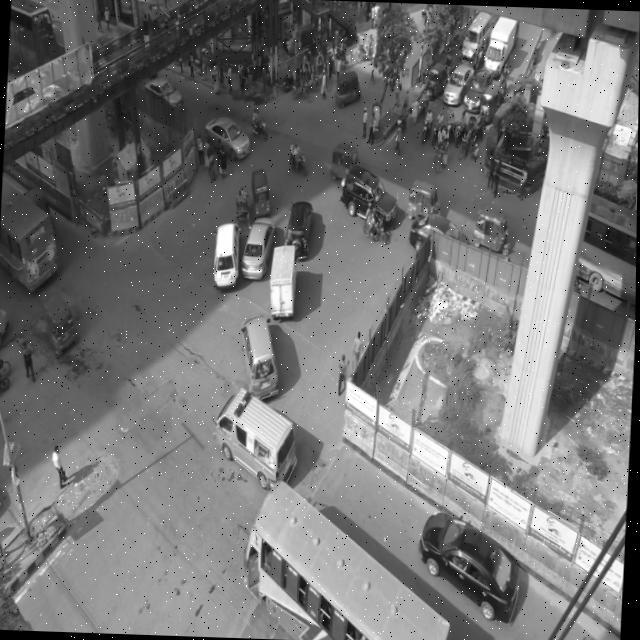cng: (33, 288, 82, 360), (474, 202, 514, 254), (405, 173, 443, 226), (247, 164, 278, 220), (329, 137, 359, 182), (477, 83, 505, 126), (336, 64, 360, 106), (427, 58, 448, 98), (443, 46, 462, 78)
rikshaw: (234, 182, 256, 234), (435, 122, 453, 174), (461, 114, 480, 159), (290, 66, 315, 99), (312, 52, 331, 92), (356, 29, 376, 66), (331, 42, 355, 69), (300, 59, 316, 95)
